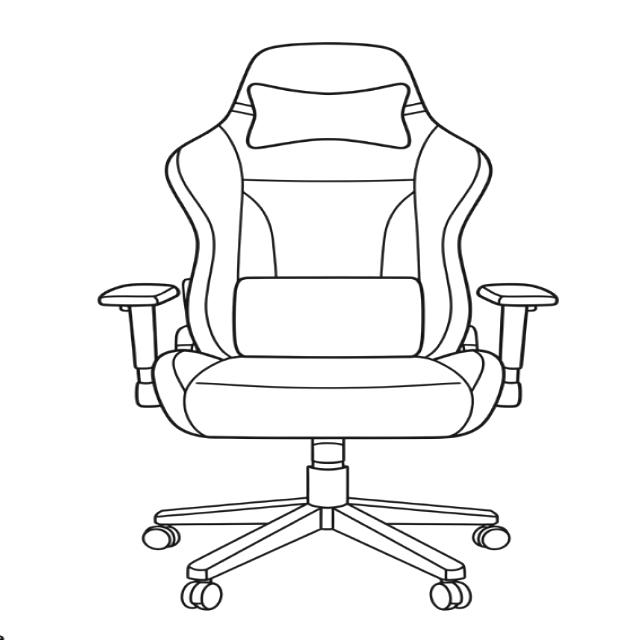Armrest: (95, 282, 182, 409), (474, 282, 561, 408)
Backrest: (163, 109, 495, 360)
Caster_Wheel: (419, 570, 481, 616), (171, 573, 230, 615), (463, 517, 518, 558), (131, 521, 188, 555)
Headrest: (231, 41, 426, 115)
Leg_Structure: (139, 440, 516, 613)
Seat: (151, 348, 508, 440)
